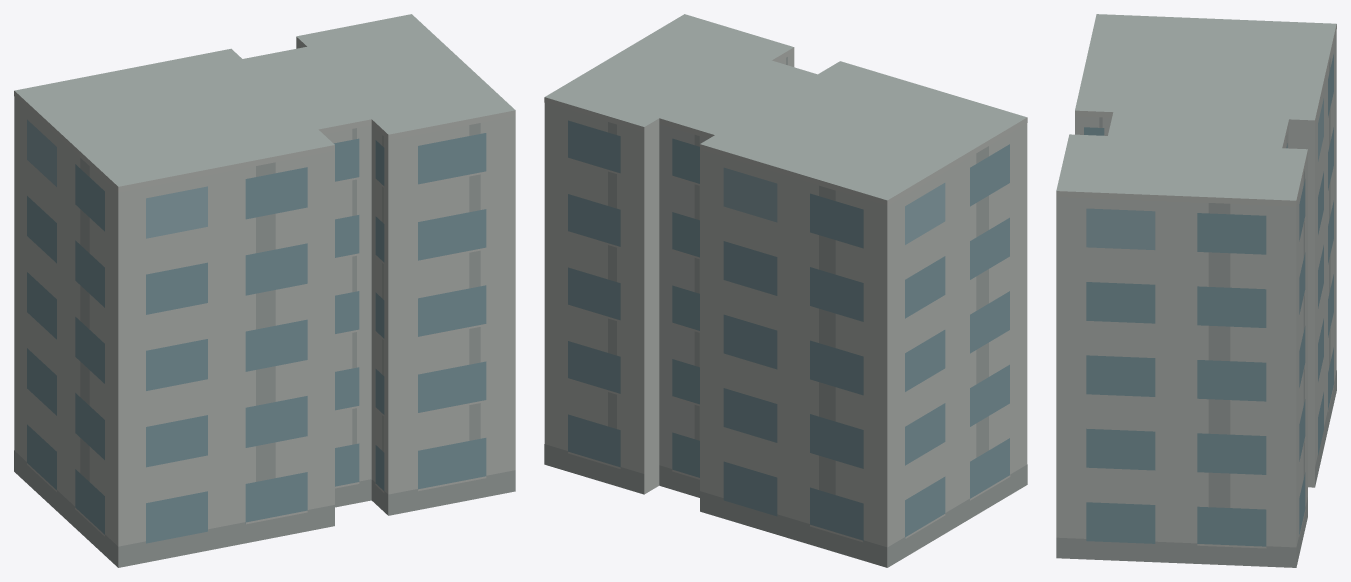
Rendered from survey-upis-32749713.glb.
3 renders of one model, left to right at view 1: azimuth 30°, elevation 25°; view 2: azimuth 150°, elevation 25°; view 3: azimuth 270°, elevation 25°, orthographic. The views are drawn at different scales.
Parts seen in each view (by area): view 1: survey-upis-32749713.tmp; view 2: survey-upis-32749713.tmp; view 3: survey-upis-32749713.tmp.
Boxes of the visible parts, x1,y1,x2,y2 form: survey-upis-32749713.tmp: (14, 14, 515, 567); survey-upis-32749713.tmp: (544, 14, 1027, 567); survey-upis-32749713.tmp: (1056, 14, 1336, 567).
Bounding box in the file's own units: 17.13 × 15.7 × 10.88.
